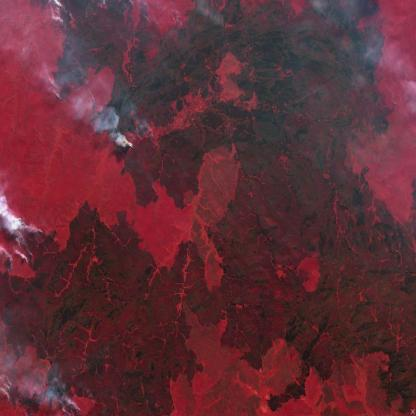fire: (45, 0, 155, 157), (0, 204, 56, 286), (0, 382, 86, 416)
